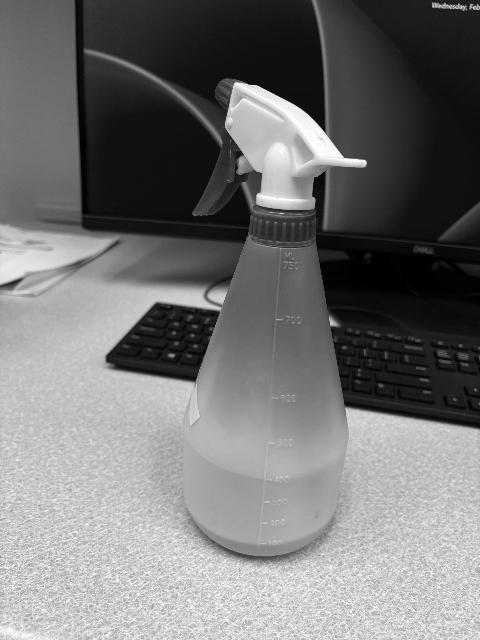AlcoholSpray: (183, 79, 367, 561)
